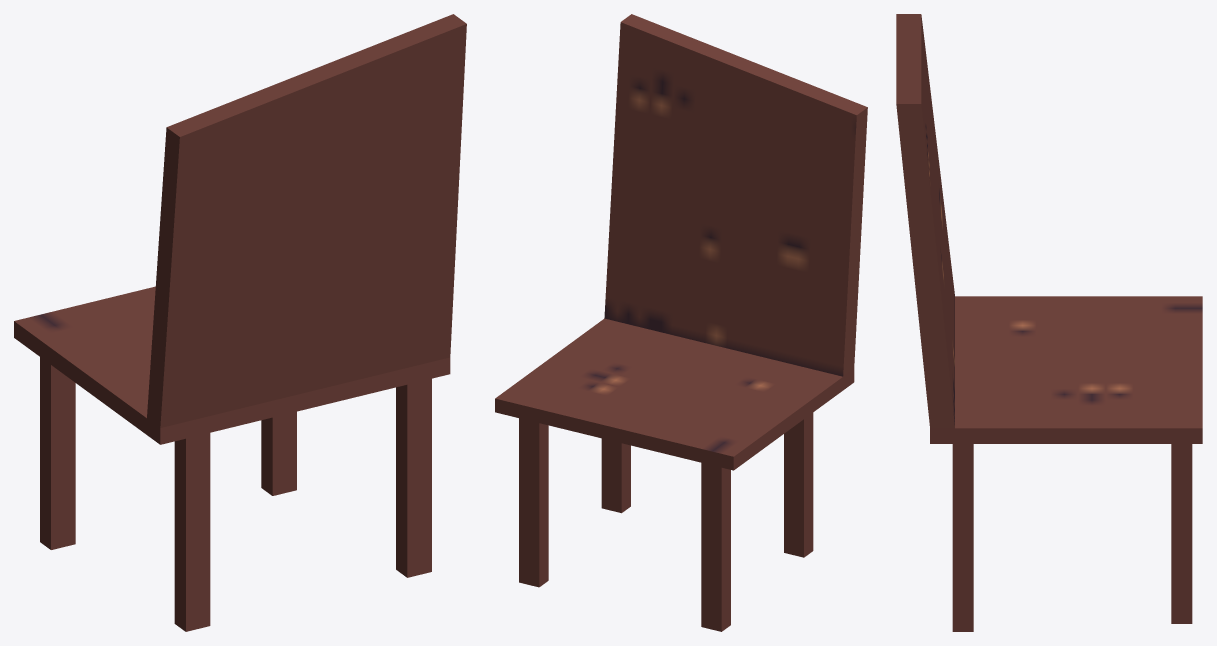
Rendered from Cadeira.fbx.
3 renders of one model, left to right at view 1: azimuth 30°, elevation 25°; view 2: azimuth 150°, elevation 25°; view 3: azimuth 270°, elevation 25°, orthographic. The views are drawn at different scales.
Visible parts, largest first — view 1: Cadeira; view 2: Cadeira; view 3: Cadeira.
Boxes of the visible parts, <box> form: Cadeira: <box>14,14,466,631</box>; Cadeira: <box>495,14,867,631</box>; Cadeira: <box>896,14,1202,631</box>.
Size of the model in its own units: 91.25 by 89.62 by 171.
